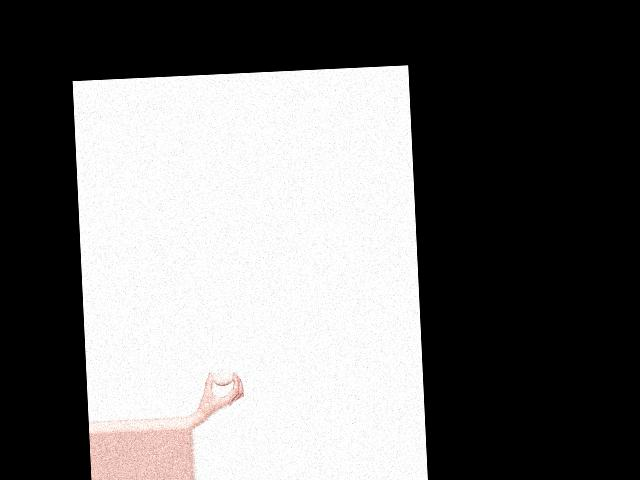egg: (211, 369, 233, 386)
